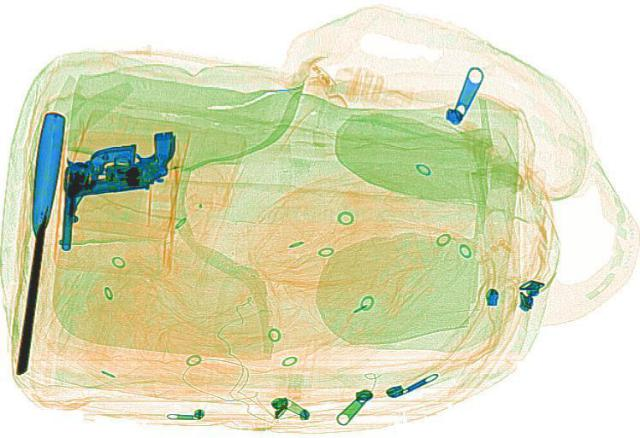Gun: (44, 128, 192, 199), (57, 140, 135, 250)
Knife: (5, 110, 67, 373)
